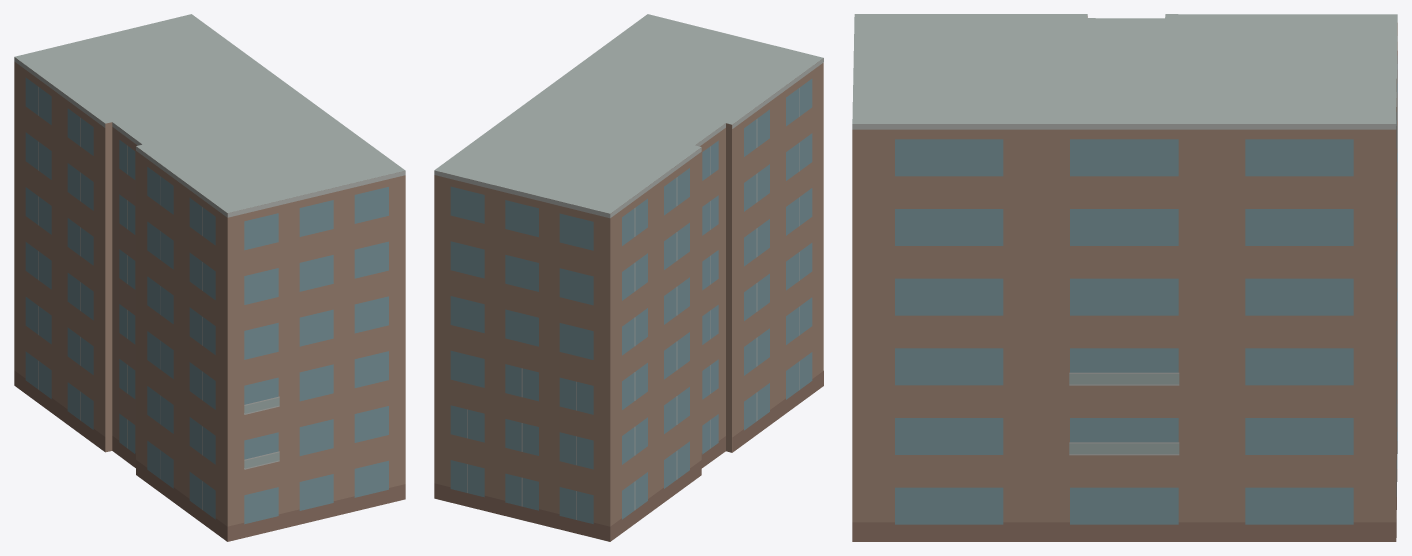
The model's file is survey-upis-32873843.glb.
3 renders of one model, left to right at view 1: azimuth 30°, elevation 25°; view 2: azimuth 150°, elevation 25°; view 3: azimuth 270°, elevation 25°, orthographic. The views are drawn at different scales.
Visible parts, largest first — view 1: survey-upis-32873843.tmp; view 2: survey-upis-32873843.tmp; view 3: survey-upis-32873843.tmp.
Boxes of the visible parts, left/top/right/bottom form: survey-upis-32873843.tmp: left=14, top=14, right=405, bottom=541; survey-upis-32873843.tmp: left=434, top=14, right=823, bottom=541; survey-upis-32873843.tmp: left=852, top=14, right=1397, bottom=541.
Size of the model in its own units: 9.92 by 17.5 by 20.7.
